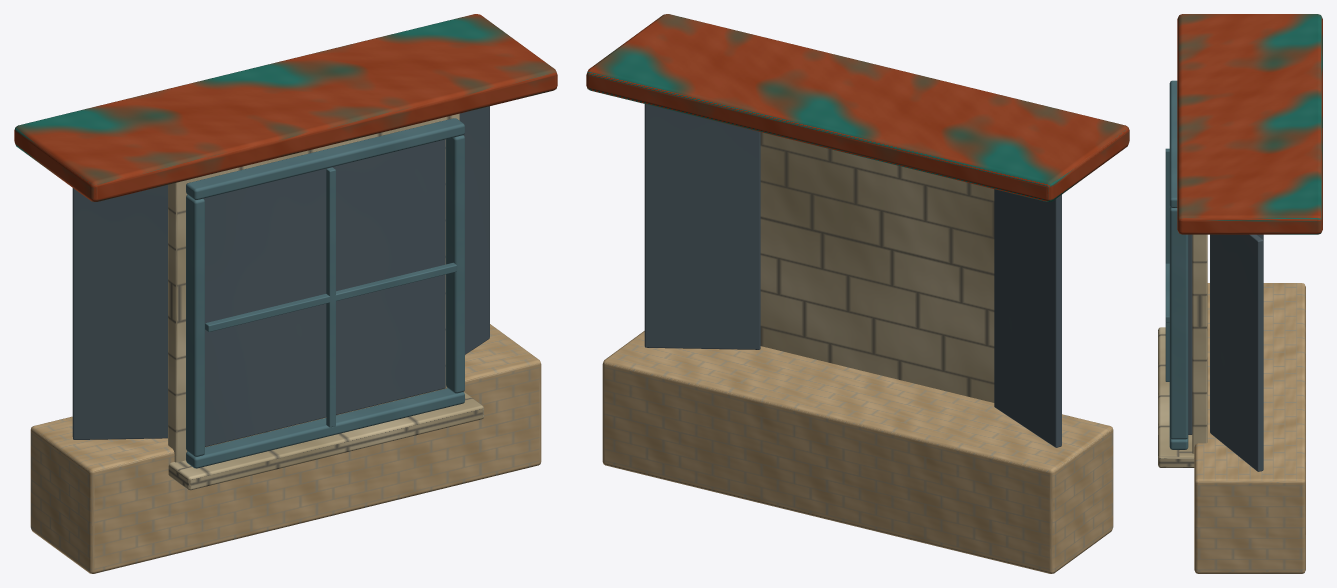
The model's file is window-bay-copper.lod0.gltf.
3 views of the same model, side by side, from view 1: azimuth 30°, elevation 25°; view 2: azimuth 150°, elevation 25°; view 3: azimuth 270°, elevation 25° (orthographic). The views are drawn at different scales.
Parts seen in each view (by area): view 1: window-bay-copper; view 2: window-bay-copper; view 3: window-bay-copper.
Part boxes in pixels (x1,y1,x2,y2): window-bay-copper: [14, 14, 557, 573]; window-bay-copper: [586, 14, 1129, 573]; window-bay-copper: [1158, 14, 1322, 573].
Bounding box in the file's own units: 3.14 × 2.58 × 1.06.
5 materials, 5 textured.
